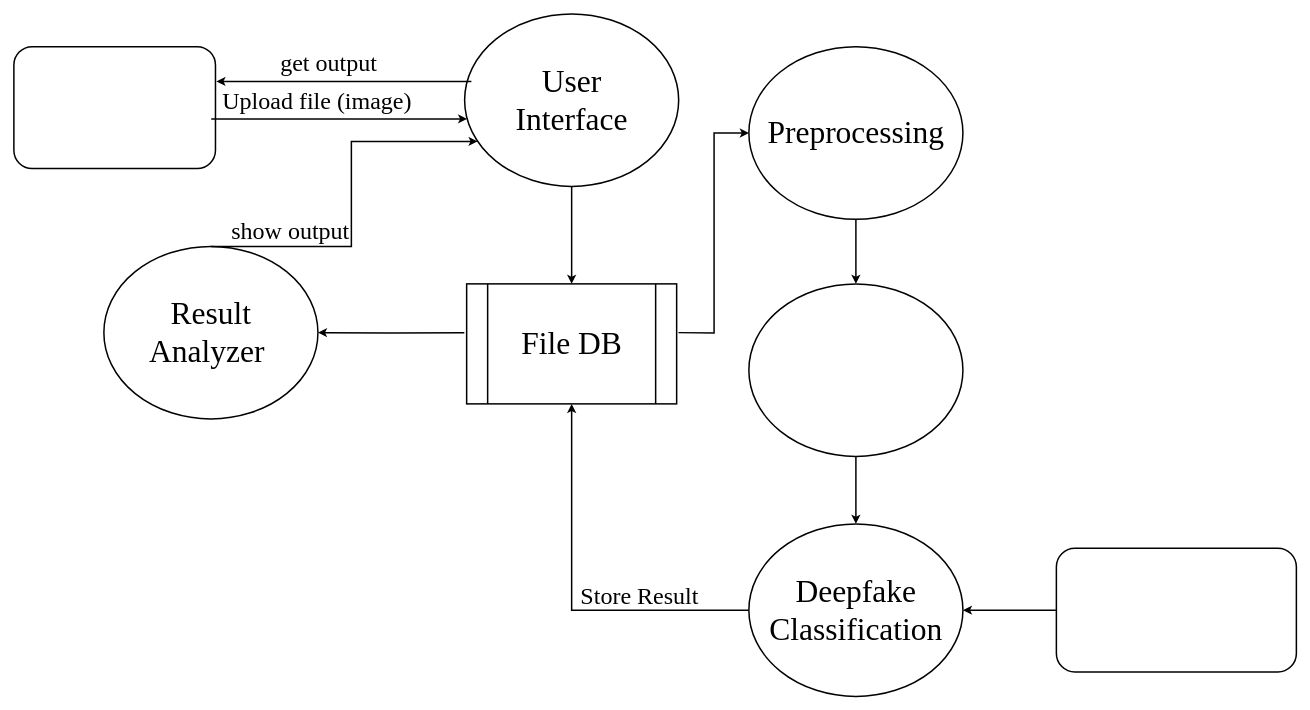
Some shapes in this 1310 by 710 pixel diagram are drawn without their labels. The shapes that lost their labels are listed below. From the top down, each one's centre as x and y in pixels, then its label:
At point 114,107: "User".
At point 855,370: "Feature Extraction".
At point 1176,609: "Training Data Model".
